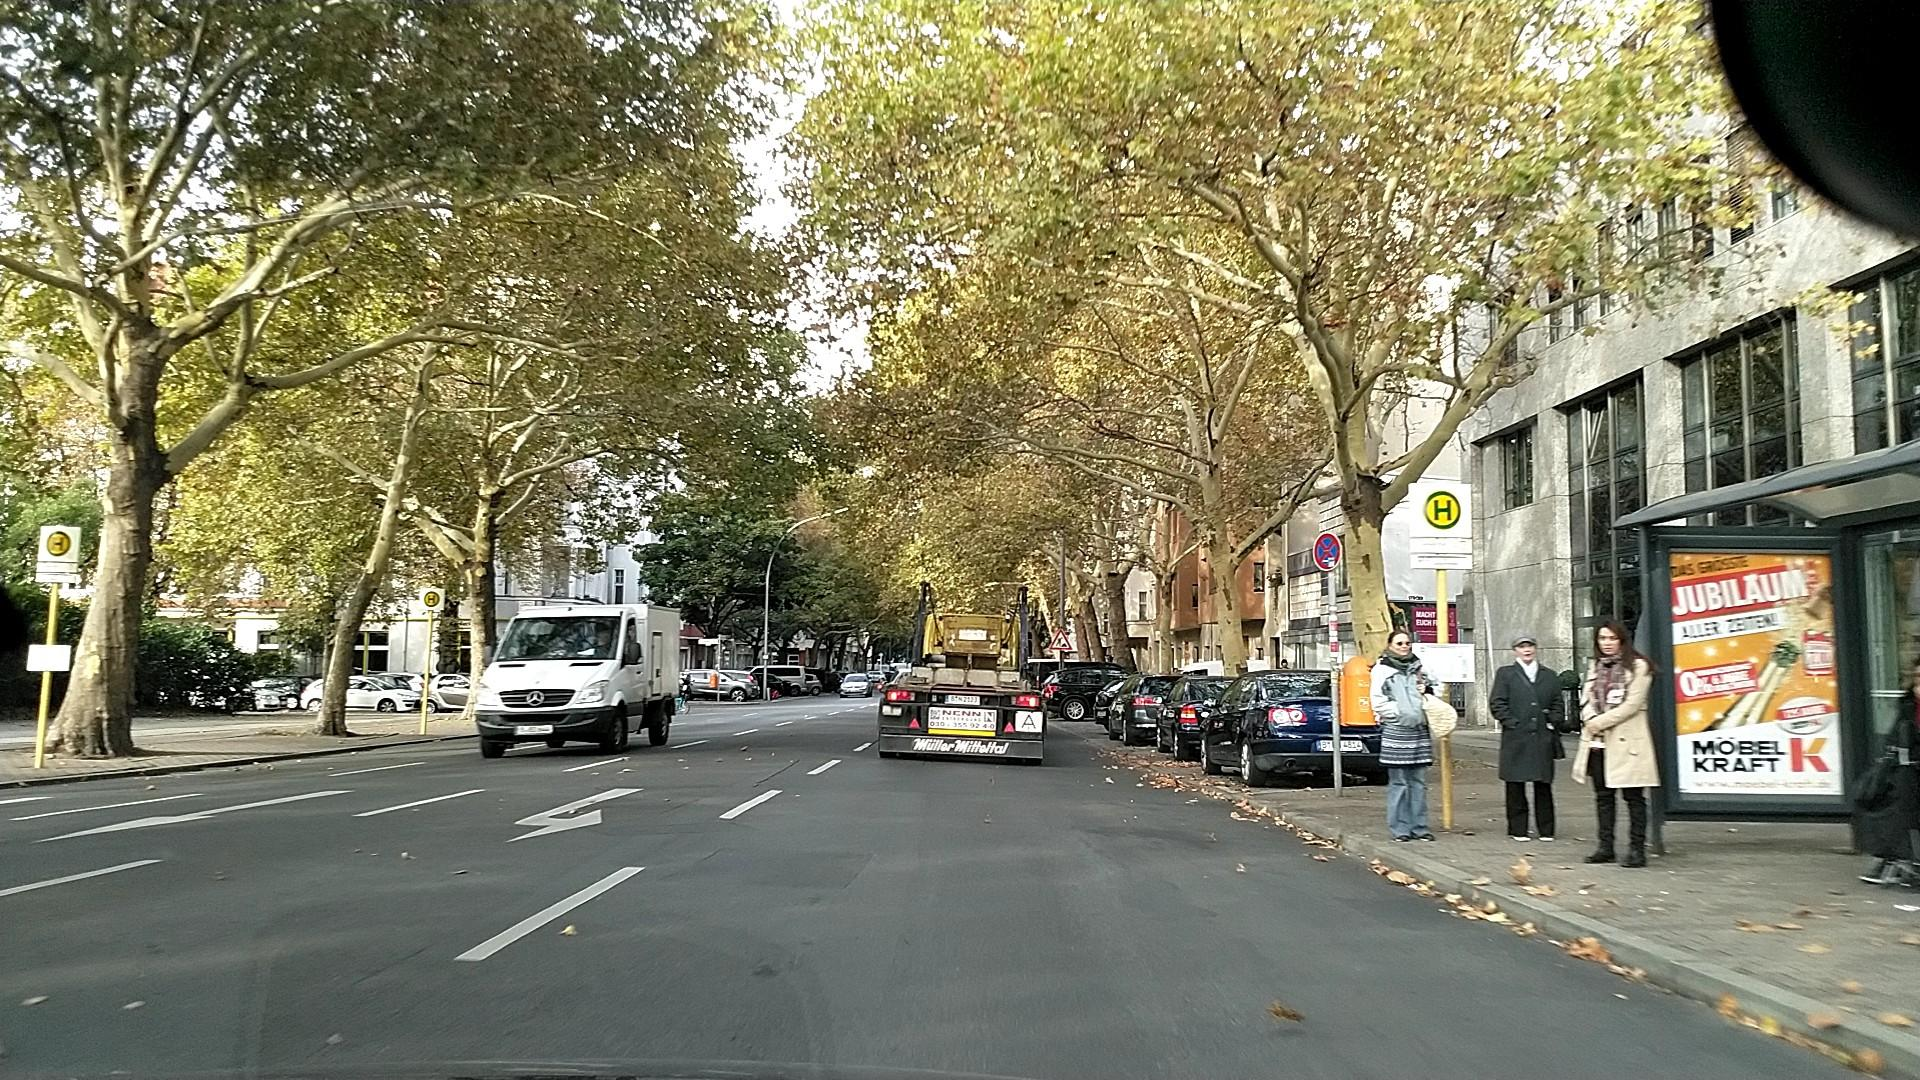Human face: (1595, 624, 1624, 656), (1513, 637, 1538, 663), (1387, 631, 1412, 658)
Vehicle registration plate: (1316, 739, 1362, 752), (942, 694, 981, 707), (514, 725, 553, 735)
